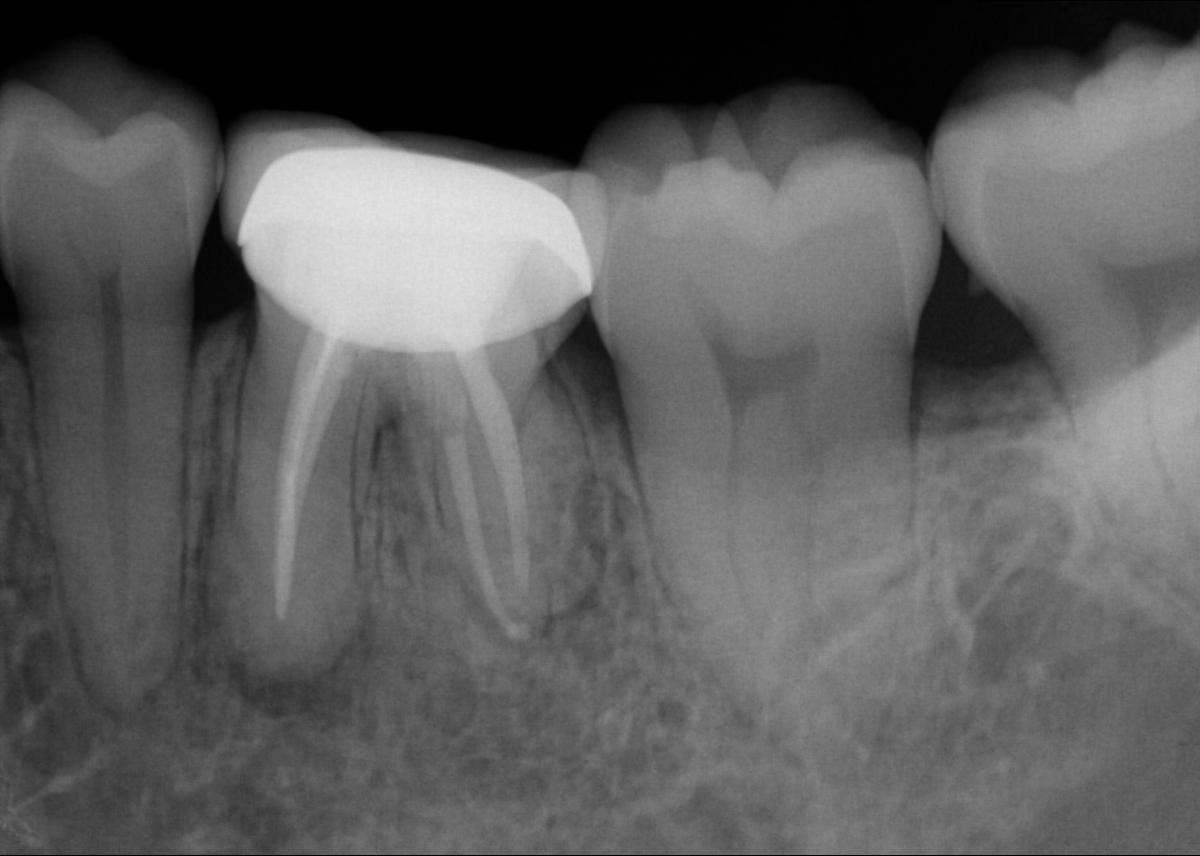Endo-Periodontal Lesion: (368, 413, 404, 472)
Furcation Involvement: (230, 605, 382, 727), (539, 535, 609, 637)
